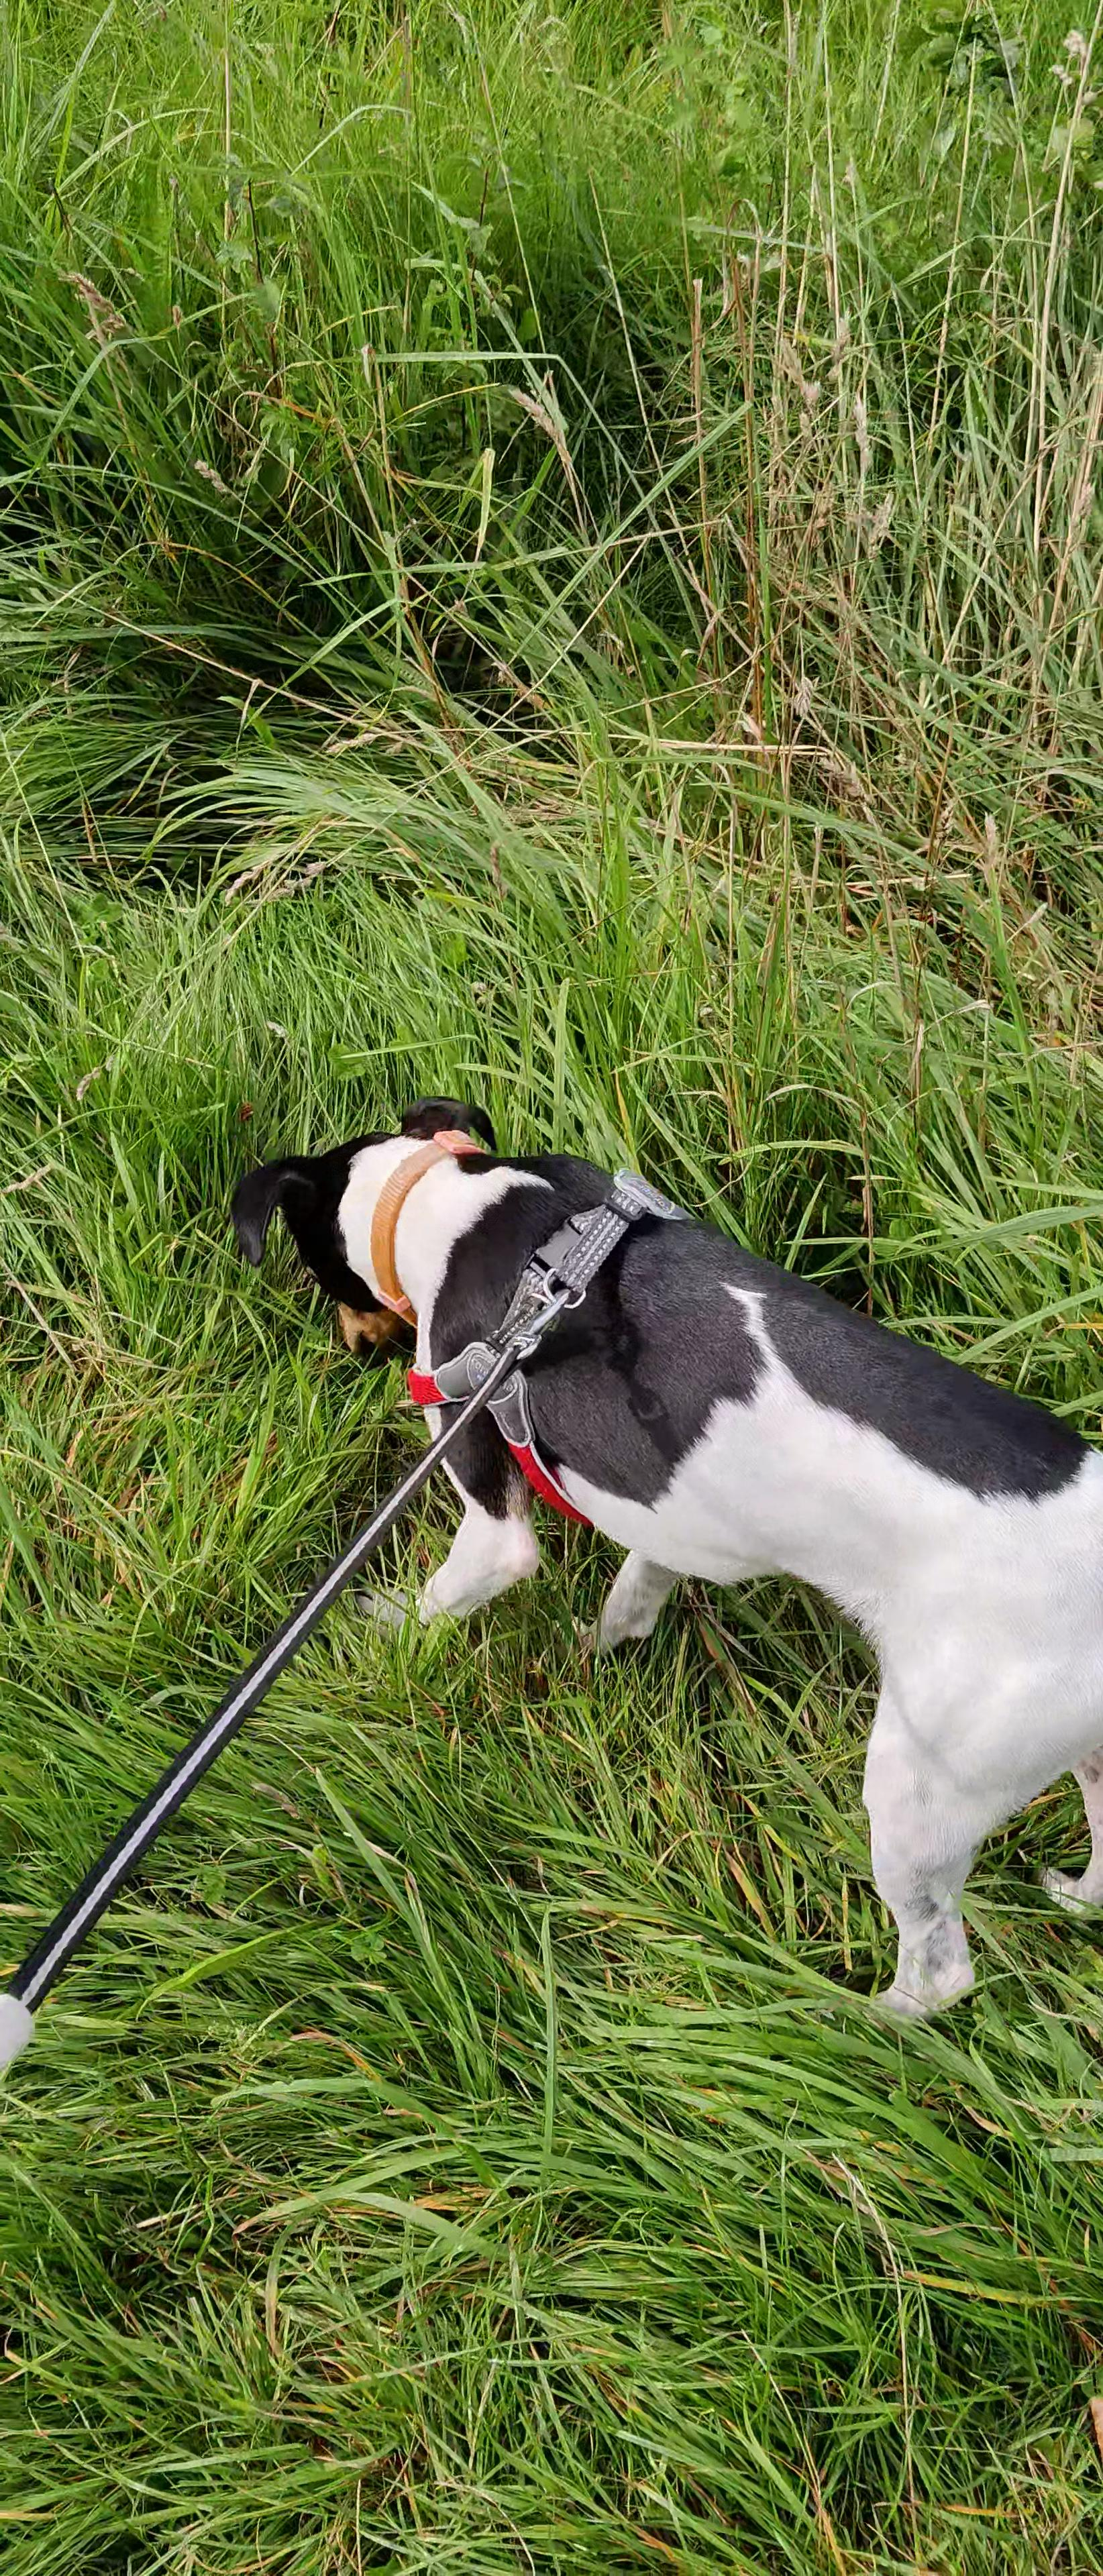Dog: (215, 1086, 1103, 2035)
